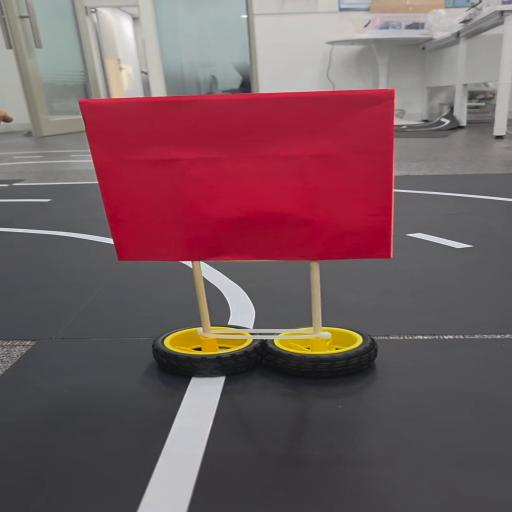Sign_A: (71, 90, 410, 385)
